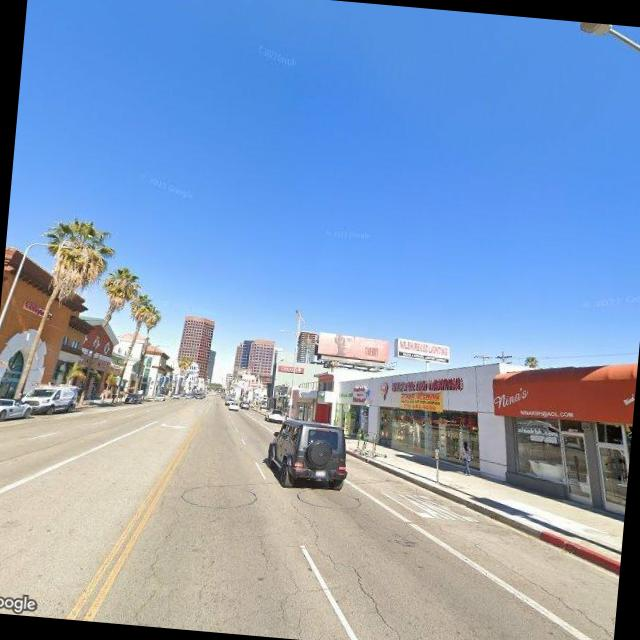crack: (264, 498, 417, 640), (461, 540, 618, 640)
